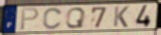4: (134, 4, 153, 29)
7: (90, 6, 107, 29)
C: (42, 7, 64, 31)
K: (112, 5, 131, 28)
P: (19, 7, 40, 31)
Q: (65, 7, 87, 29)
